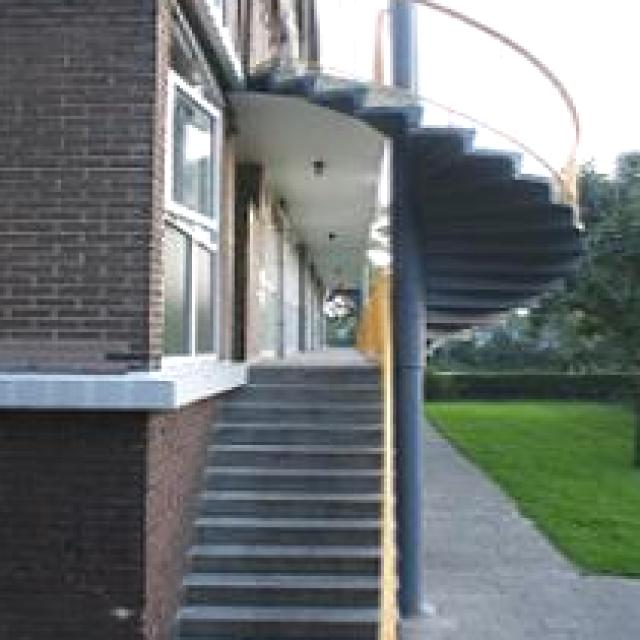upstair: (184, 428, 388, 623)
